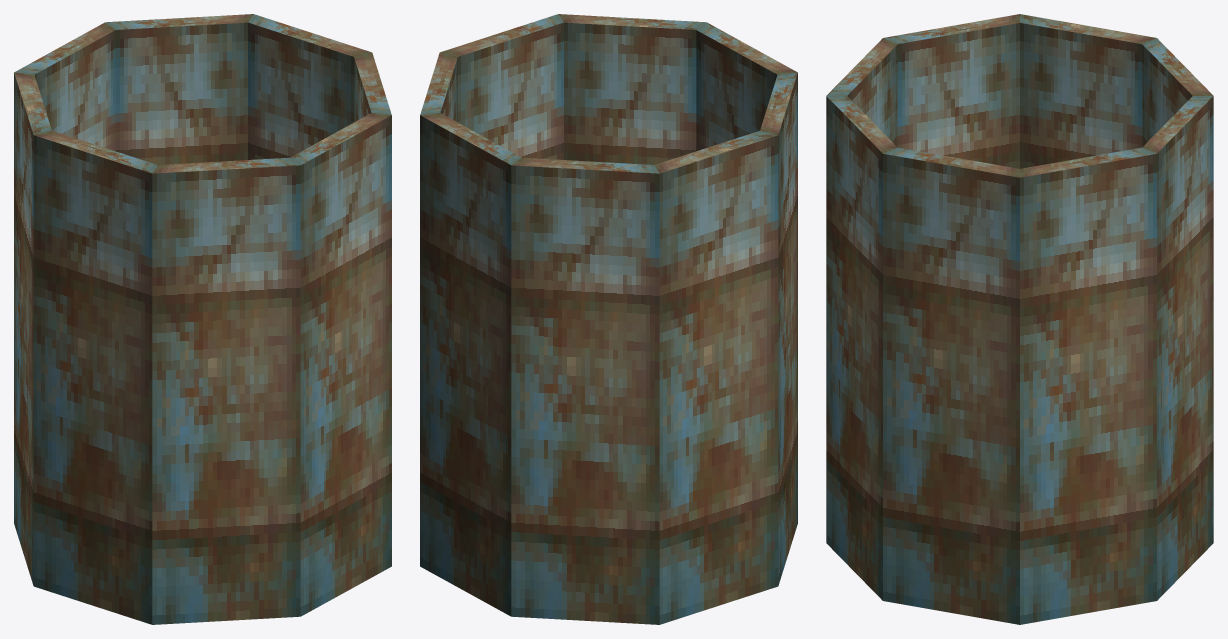
File: Barrel.fbx
3 views of the same model, side by side, from view 1: azimuth 30°, elevation 25°; view 2: azimuth 150°, elevation 25°; view 3: azimuth 270°, elevation 25° (orthographic).
Parts seen in each view (by area): view 1: Barrel; view 2: Barrel; view 3: Barrel.
Boxes of the visible parts, <box> form: Barrel: <box>14,14,391,624</box>; Barrel: <box>420,14,797,624</box>; Barrel: <box>826,14,1213,624</box>.
Size of the model in its own units: 118 by 150 by 118.
